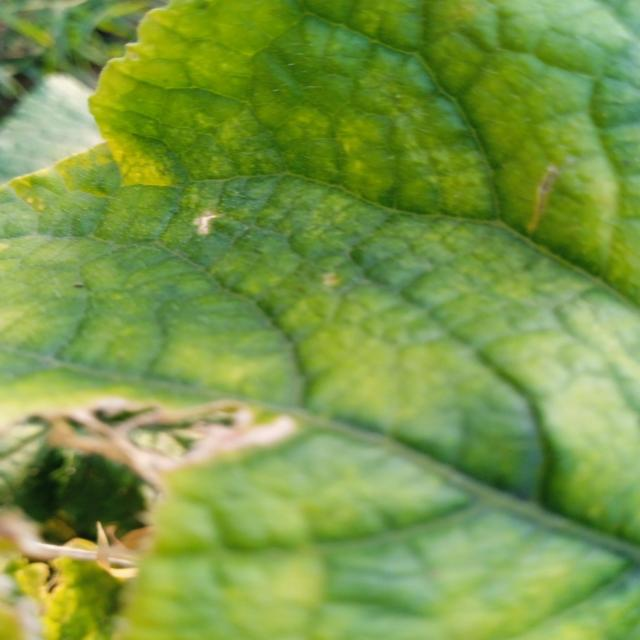cucumber_anthracnose: (5, 15, 362, 638)
